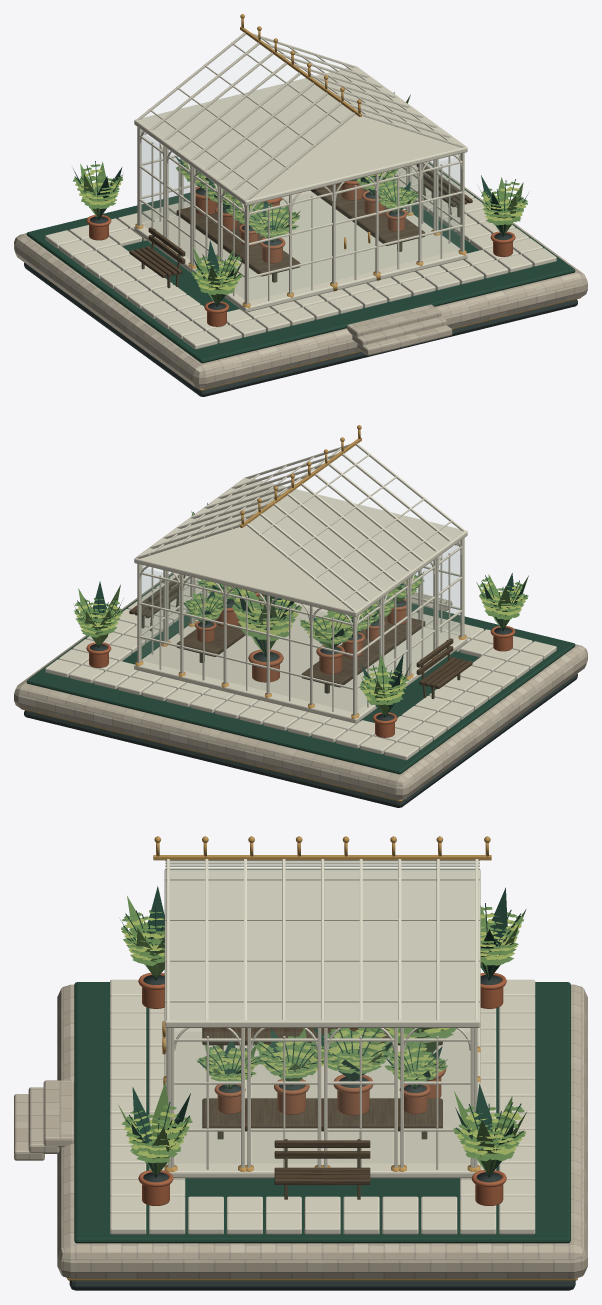
3 views of the same model, one above another, from view 1: azimuth 30°, elevation 25°; view 2: azimuth 150°, elevation 25°; view 3: azimuth 270°, elevation 25° (orthographic). The views are drawn at different scales.
Visible parts, largest first — view 1: runtime_Floating brass reveal, runtime_Garden island; view 2: runtime_Floating brass reveal, runtime_Garden island; view 3: runtime_Floating brass reveal, runtime_Garden island.
Part boxes in pixels (x1=…): runtime_Floating brass reveal: x1=24, y1=14, x2=581, y2=396; runtime_Garden island: x1=14, y1=161, x2=587, y2=388; runtime_Floating brass reveal: x1=20, y1=425, x2=577, y2=807; runtime_Garden island: x1=14, y1=572, x2=587, y2=799; runtime_Floating brass reveal: x1=67, y1=836, x2=577, y2=1290; runtime_Garden island: x1=14, y1=984, x2=587, y2=1278.
Bounding box in the file's own units: 10.4 × 5.82 × 9.3.
Materials: 14 (2 with a texture image).
